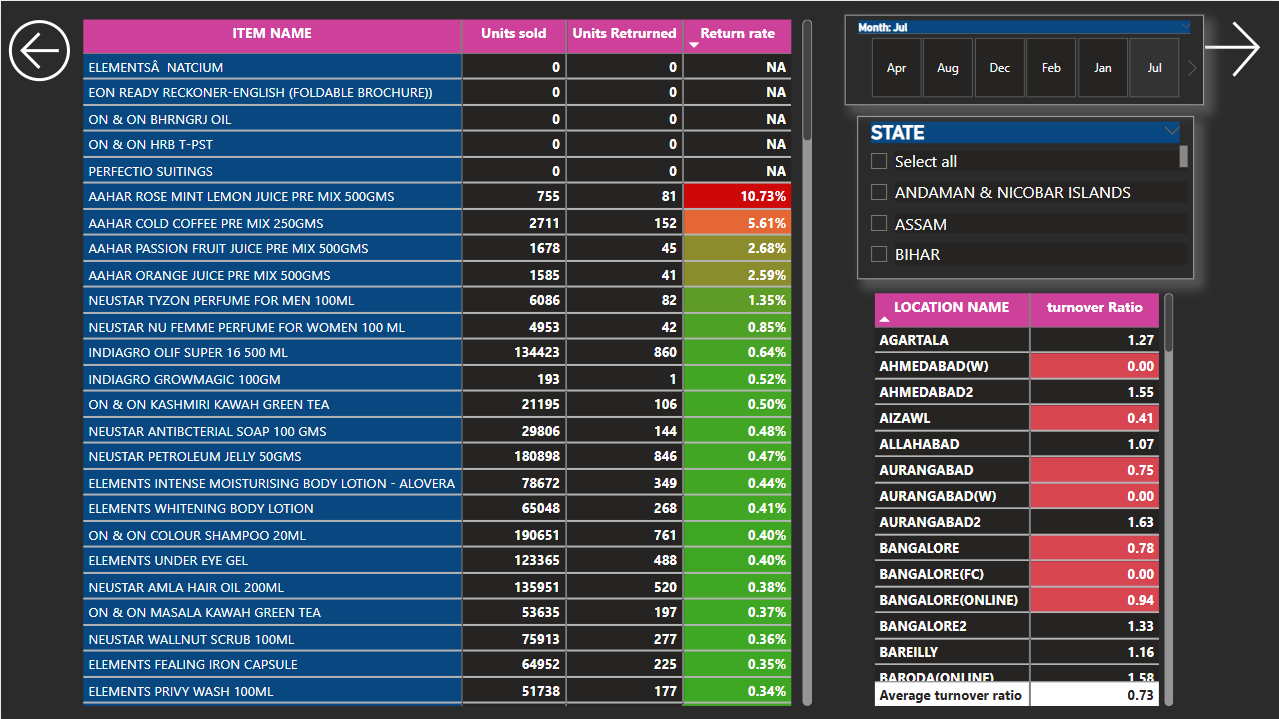

Layout of this report page (visuals, bound fields, positions):
{"tool":"powerbi","page":{"name":"Retruns and turnover ratio","canvas":[1280,720],"ordinal":1},"visuals":[{"type":"pivotTable","fields":{"Values":["Sum(correct Item wise groupped.Total units soild)","Sum(correct Item wise groupped.Total retrurns)","correct Item wise groupped.Return %"],"Rows":["correct Item wise groupped.ITEM NAME"]},"box":[77.2,13.3,738.3,696.1],"z":0},{"type":"slicer","fields":{"Values":["correct hub wise groupped.STATE"]},"box":[856.6,114.6,336.6,162.9],"z":1000},{"type":"tableEx","fields":{"Values":["correct hub wise groupped.LOCATION NAME","correct hub wise groupped.turnover Ratio"]},"box":[867.4,287.1,316.1,422.3],"z":2000},{"type":"actionButton","box":[0,0,76.8,98.8],"z":3000},{"type":"actionButton","box":[1196.8,13.3,83.2,68.8],"z":4000},{"type":"slicer","fields":{"Values":["correct hub wise groupped.Month"]},"box":[843.3,13.3,359.5,90.5],"z":5000}]}

Visuals, with their boxes in screenshot pixels (x1, y1, x2, y2), scaled from the page's 1280x720 canvas onto the 1279x719 screenshot:
pivotTable - Sum(correct Item wise groupped.Total units soild) x Sum(correct Item wise groupped.Total retrurns): [77,13,815,708]
slicer - correct hub wise groupped.STATE: [856,114,1192,277]
tableEx - correct hub wise groupped.LOCATION NAME x correct hub wise groupped.turnover Ratio: [867,287,1183,708]
actionButton: [0,0,77,99]
actionButton: [1196,13,1278,82]
slicer - correct hub wise groupped.Month: [843,13,1202,104]
